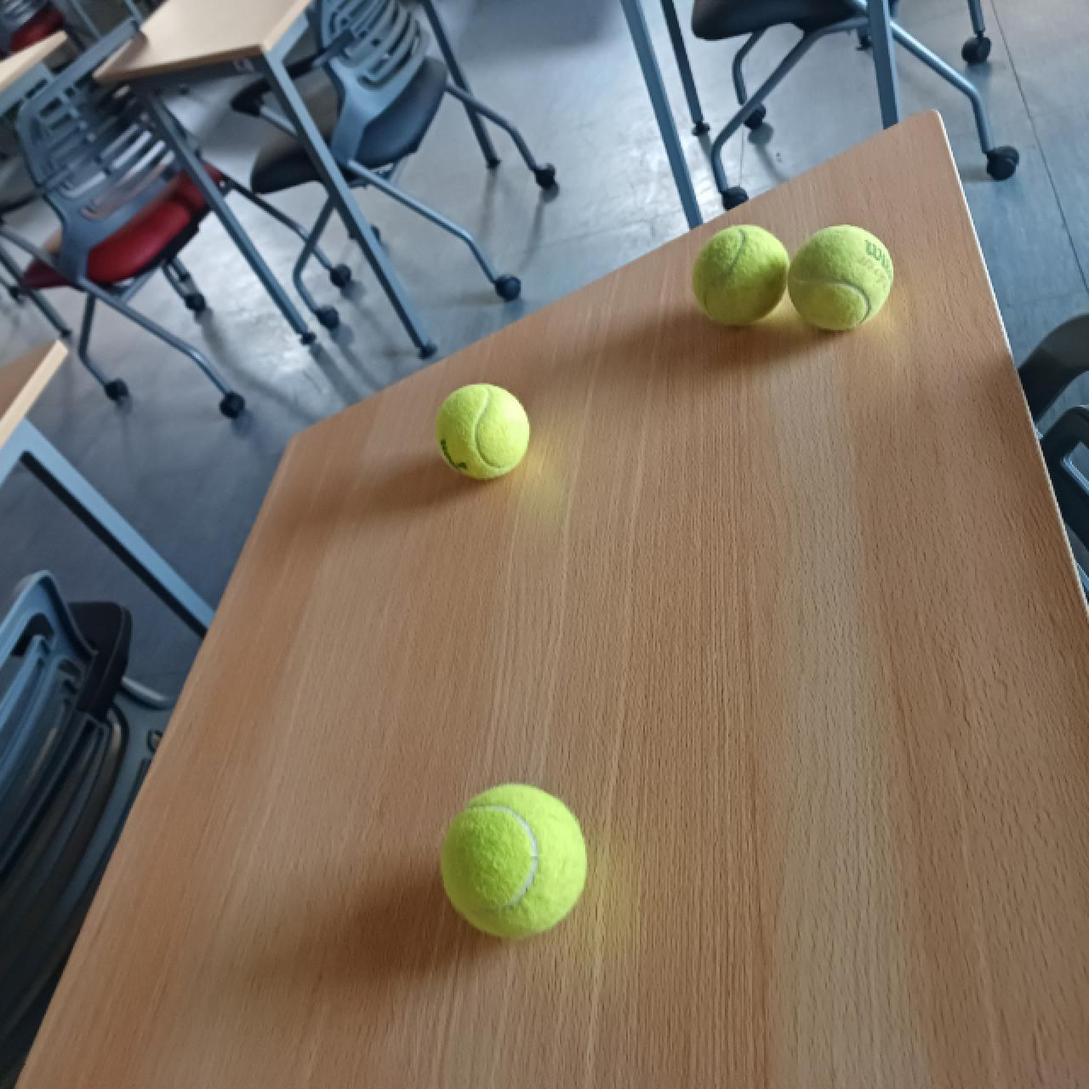tennis-ball: (441, 782, 589, 938), (788, 224, 898, 333), (691, 222, 790, 330), (435, 382, 532, 479)
